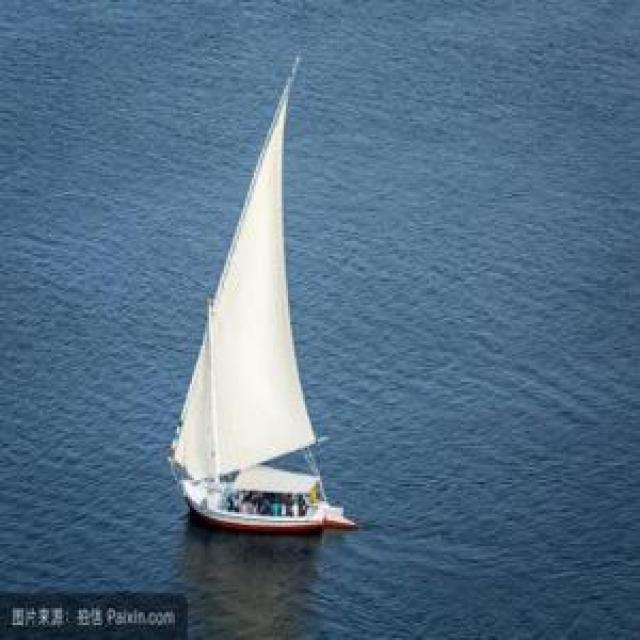sailboat: (164, 47, 368, 534)
